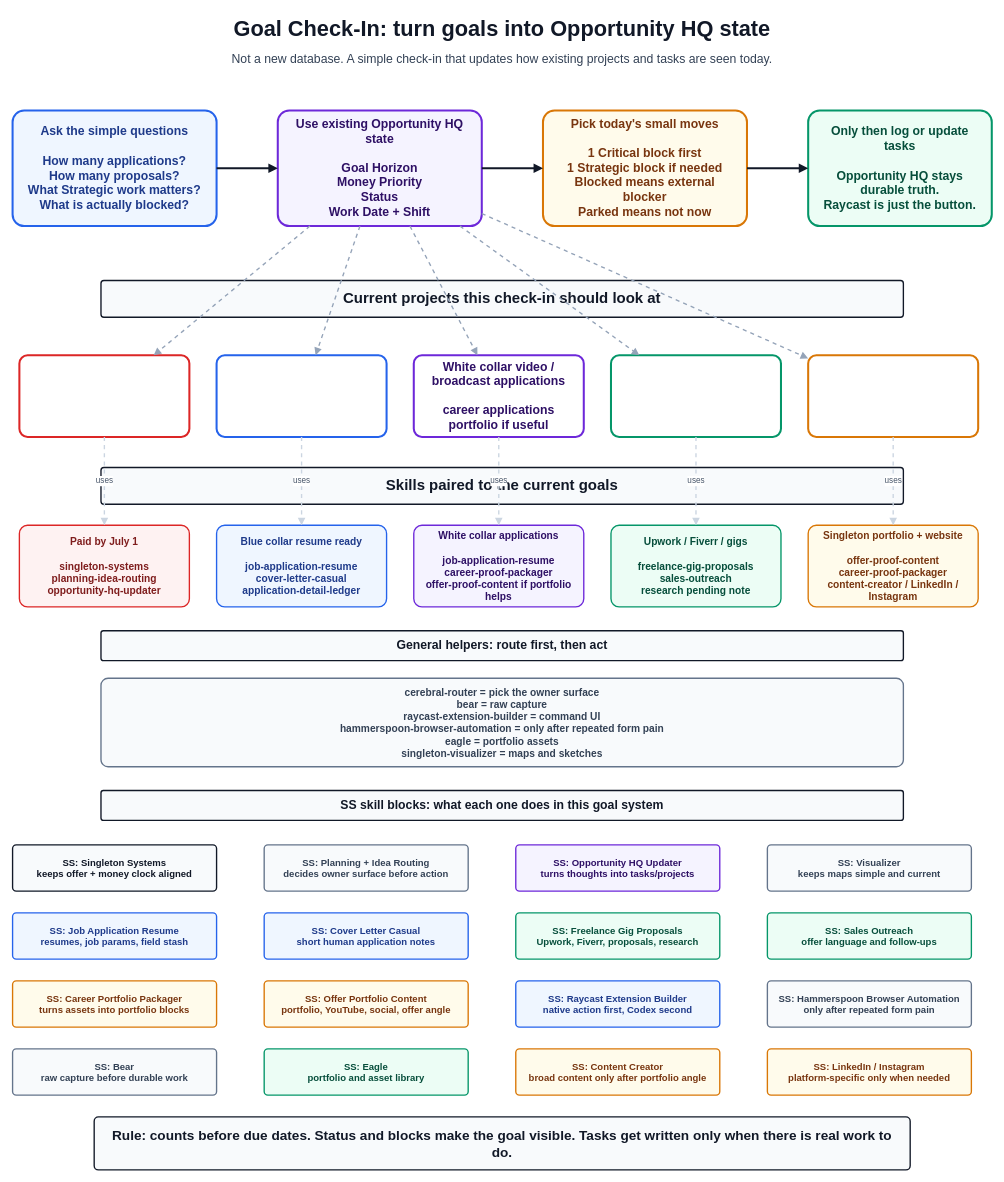
Image size: 1004x1182. Some labels were removed from this diagram. The shapes that lost their labels are listed below. From the top down, each one's centre as x and y in pixels, then its label:
point 104,396: Paid by July 1 deadline pressure Critical first
point 301,396: Blue collar resume ready resume prep then applications
point 696,396: Upwork consultation / proposals proposal count follow-ups
point 893,396: Singleton portfolio + website Strategic do not let it hide cash work
